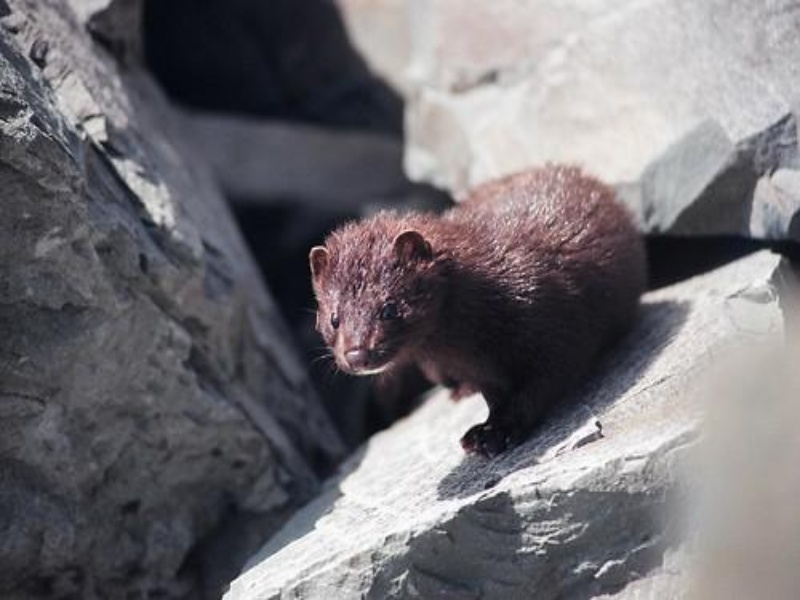minkish: (303, 159, 650, 453)
